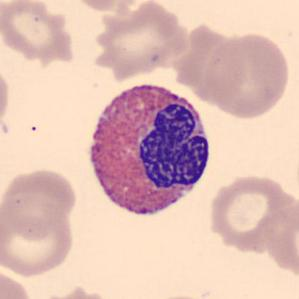Eosinophil: (79, 73, 218, 230)
RBC: (202, 30, 292, 121), (89, 0, 189, 79), (205, 172, 296, 254), (171, 19, 247, 101), (0, 200, 77, 278), (1, 166, 79, 241), (0, 0, 75, 62), (258, 195, 299, 282), (35, 284, 116, 299), (0, 267, 35, 299), (66, 0, 141, 13), (0, 64, 13, 134), (141, 292, 220, 299)
